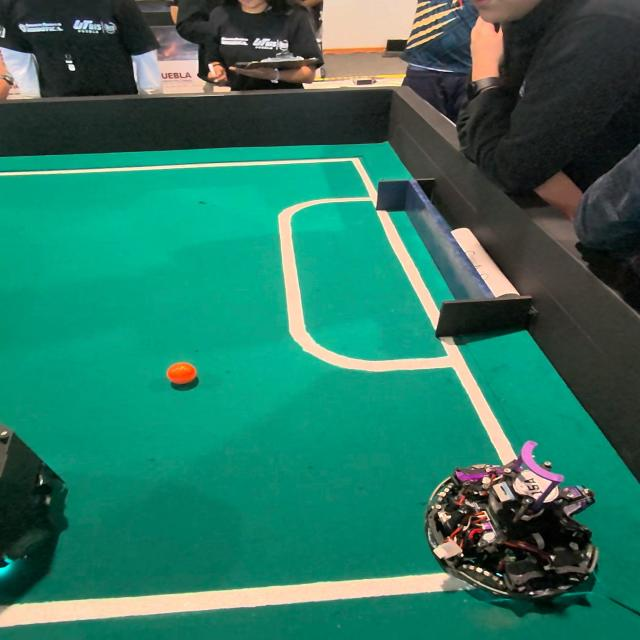Robot: (421, 448, 608, 620), (0, 397, 72, 608)
pelota: (166, 364, 198, 390)
